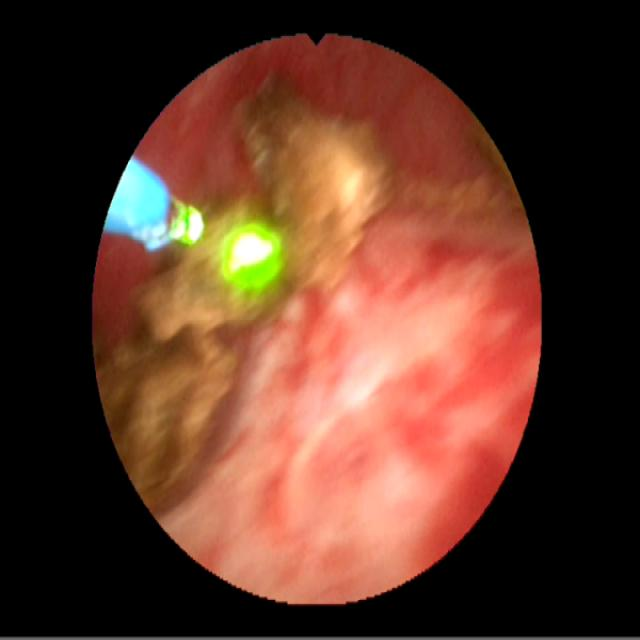fiber: (109, 163, 164, 246)
stone: (105, 208, 277, 506), (237, 74, 394, 290)
tissue: (161, 47, 529, 598)
